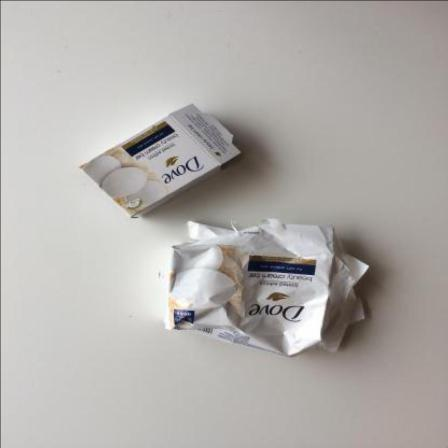Carton: (79, 104, 243, 219)
Plastic bag - wrapper: (164, 219, 369, 359)
